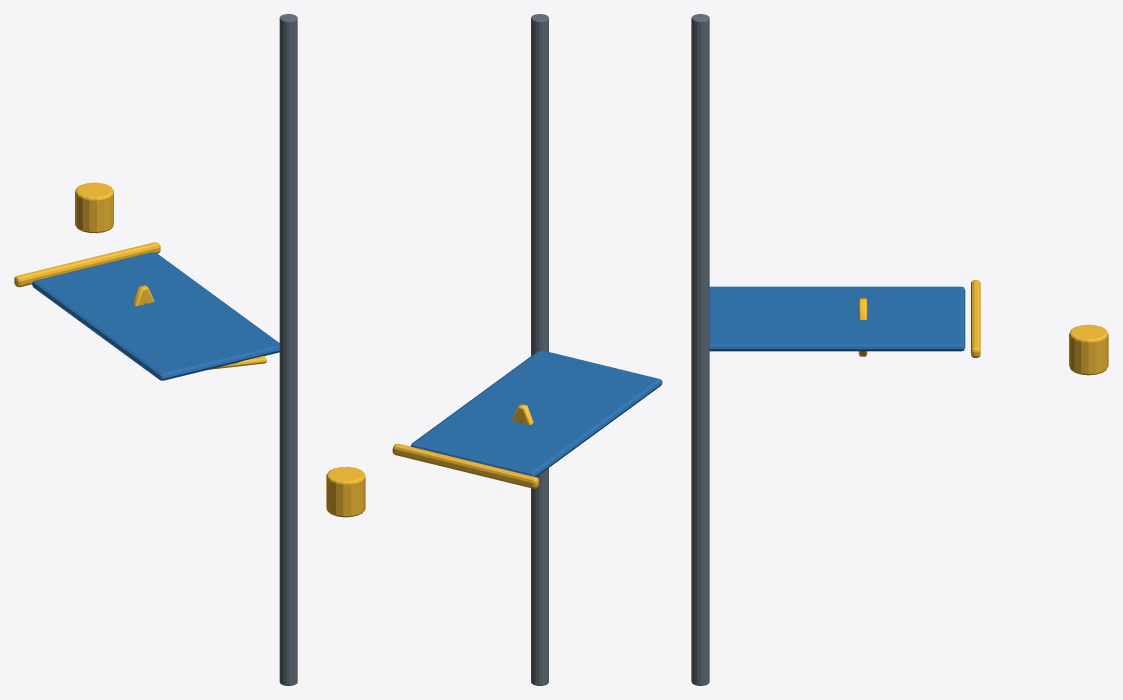
The model's file is CR_CampusBanner.fbx.
3 views of the same model, side by side, from view 1: azimuth 30°, elevation 25°; view 2: azimuth 150°, elevation 25°; view 3: azimuth 270°, elevation 25° (orthographic).
Parts seen in each view (by area): view 1: Cobalt_Banner, Metal_Pole, Gold_Finial, Gold_TopBar; view 2: Cobalt_Banner, Metal_Pole, Gold_Finial, Gold_TopBar; view 3: Cobalt_Banner, Metal_Pole, Gold_Finial, Gold_TopBar.
Boxes of the visible parts, x1,y1,x2,y2 form: Cobalt_Banner: (32, 252, 279, 380); Metal_Pole: (279, 14, 297, 685); Gold_Finial: (75, 182, 113, 233); Gold_TopBar: (14, 242, 160, 287); Cobalt_Banner: (410, 350, 662, 476); Metal_Pole: (531, 14, 548, 685); Gold_Finial: (326, 466, 365, 517); Gold_TopBar: (392, 443, 538, 488); Cobalt_Banner: (709, 286, 965, 351); Metal_Pole: (691, 14, 709, 685); Gold_Finial: (1069, 324, 1108, 375); Gold_TopBar: (971, 280, 980, 357).
Bounding box in the file's own units: 1.25 × 5.2 × 2.96.
